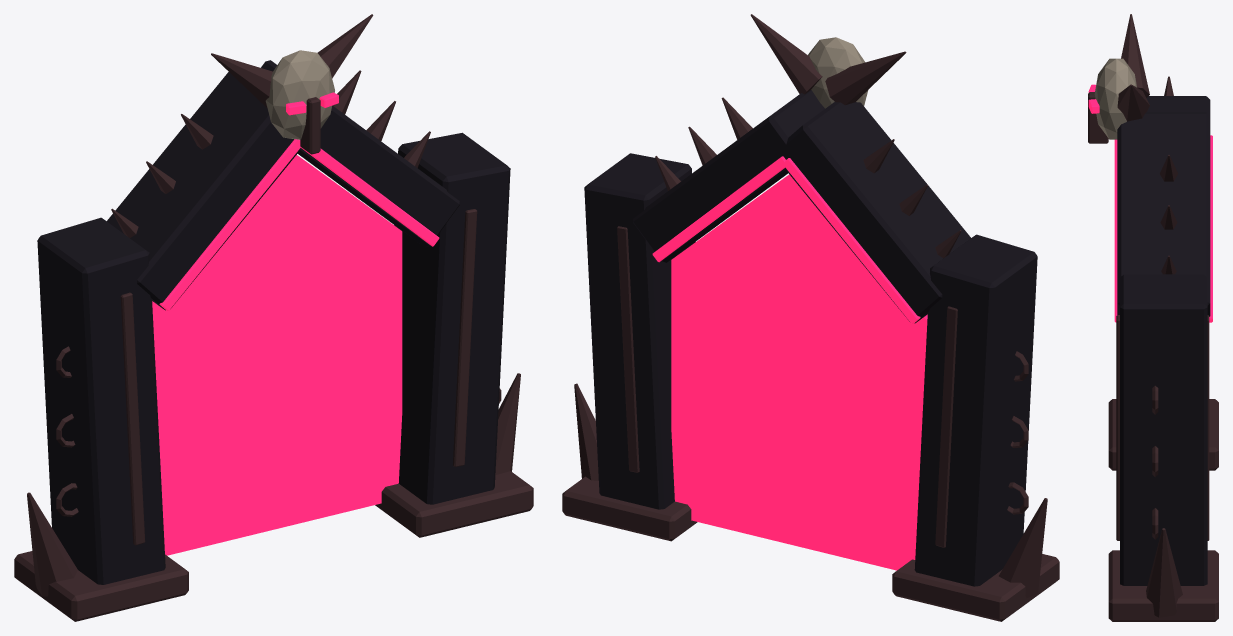
File: portal_official_campaign_LOD0.glb
3 renders of one model, left to right at view 1: azimuth 30°, elevation 25°; view 2: azimuth 150°, elevation 25°; view 3: azimuth 270°, elevation 25°, orthographic. The views are drawn at different scales.
Parts seen in each view (by area): view 1: portal_official_campaign_LOD0; view 2: portal_official_campaign_LOD0; view 3: portal_official_campaign_LOD0.
Part boxes in pixels (x1,y1,x2,y2): portal_official_campaign_LOD0: (14, 14, 533, 621); portal_official_campaign_LOD0: (562, 14, 1059, 621); portal_official_campaign_LOD0: (1088, 14, 1218, 621).
Bounding box in the file's own units: 5.96 × 6.06 × 1.52.
